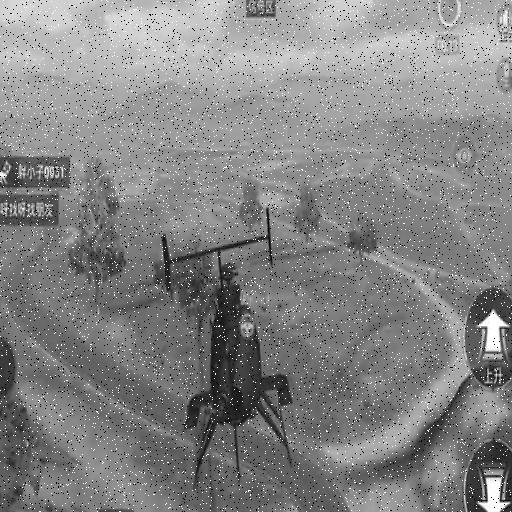helicopter: (157, 195, 298, 499)
